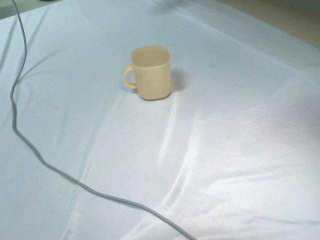cup: (121, 44, 174, 102)
